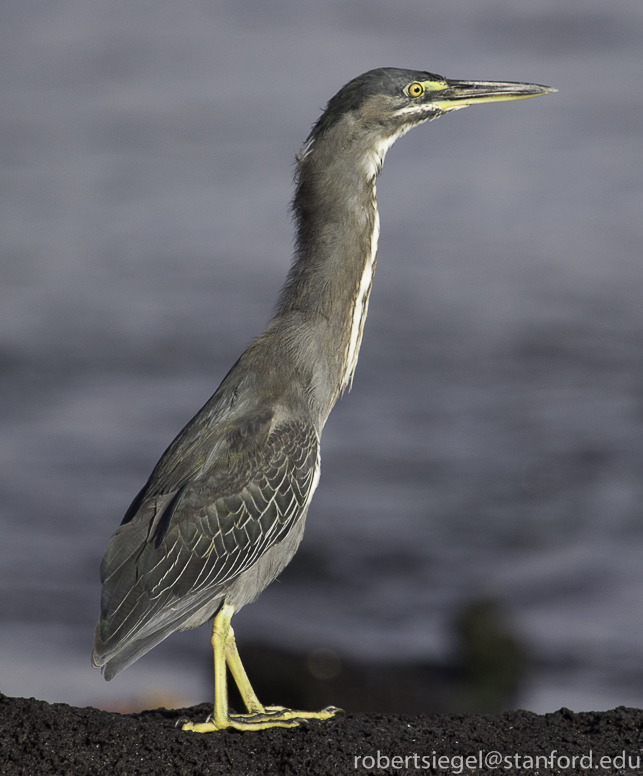heron: (98, 65, 561, 743)
